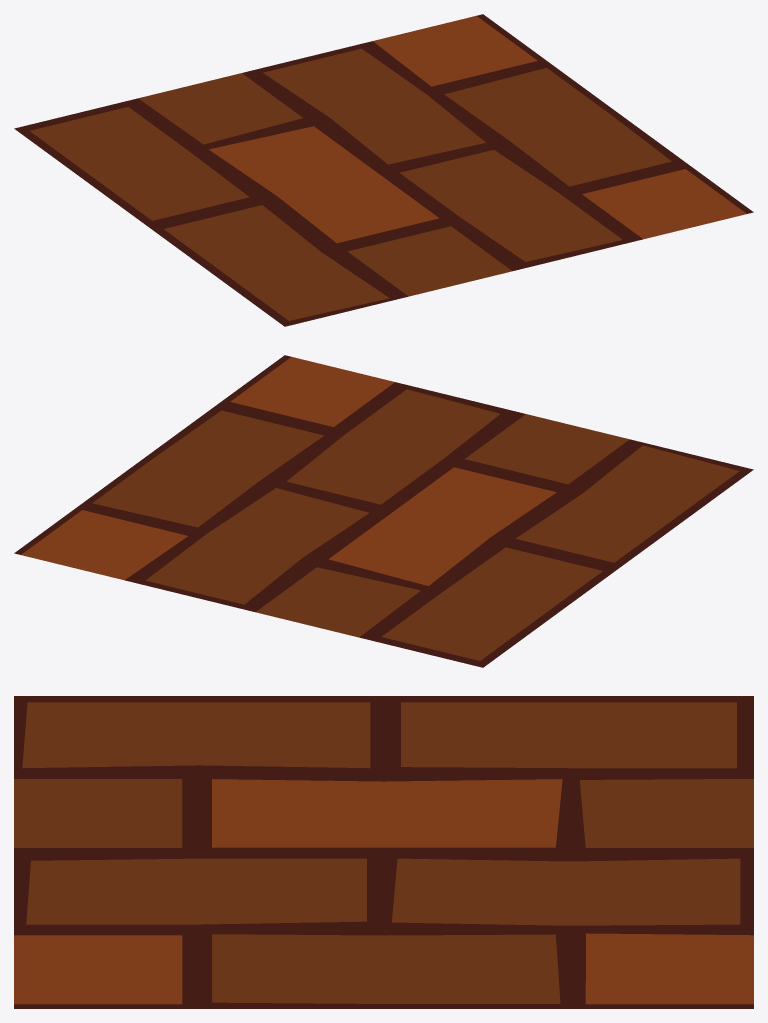
The model's file is foor_tile_03fbx.fbx.
3 renders of one model, top to bottom at view 1: azimuth 30°, elevation 25°; view 2: azimuth 150°, elevation 25°; view 3: azimuth 270°, elevation 25°, orthographic. The views are drawn at different scales.
Visible parts, largest first — view 1: floor_tile_03; view 2: floor_tile_03; view 3: floor_tile_03.
Boxes of the visible parts, x1,y1,x2,y2 form: floor_tile_03: (14, 14, 753, 326); floor_tile_03: (14, 355, 753, 667); floor_tile_03: (14, 696, 753, 1008).
Bounding box in the file's own units: 100 × 3.81e-06 × 100.
Materials: 1 (1 with a texture image).
